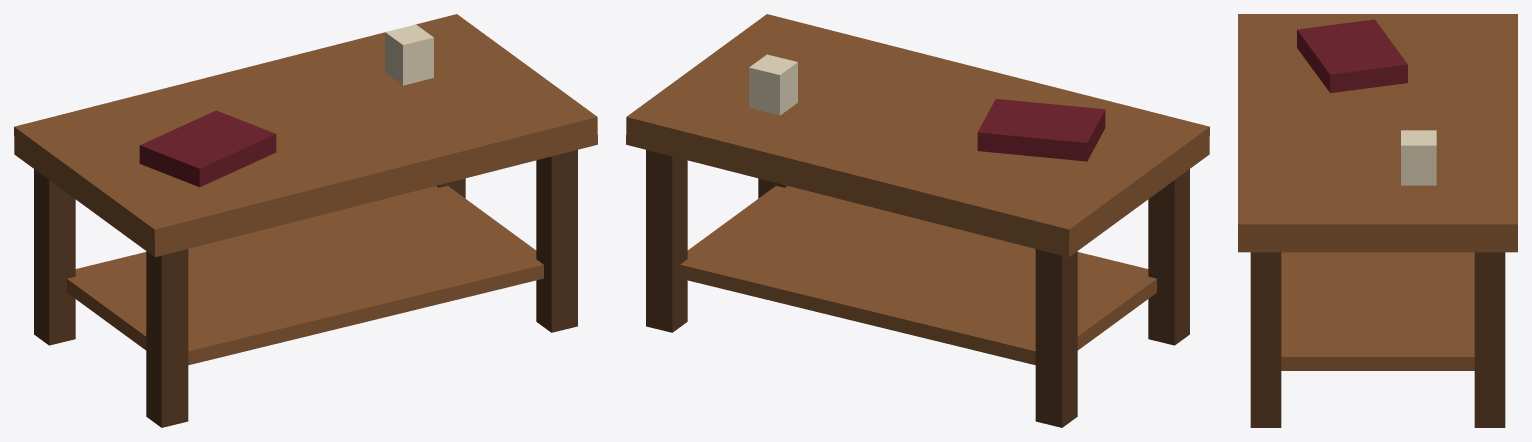
The model's file is Salontafel.glb.
The picture shows the model from 3 angles, left to right: view 1: azimuth 30°, elevation 25°; view 2: azimuth 150°, elevation 25°; view 3: azimuth 270°, elevation 25°; orthographic projection.
Parts seen in each view (by area): view 1: Top, Shelf, Legs, Book, Mug; view 2: Top, Shelf, Legs, Book, Mug; view 3: Top, Shelf, Legs, Book, Mug.
Boxes of the visible parts, box(x1,y1,x2,y2) form: Top: box(14, 14, 597, 257); Shelf: box(67, 186, 543, 365); Legs: box(34, 150, 577, 427); Book: box(139, 110, 276, 187); Mug: box(385, 24, 433, 85); Top: box(626, 14, 1209, 257); Shelf: box(680, 186, 1156, 365); Legs: box(646, 150, 1189, 427); Book: box(977, 99, 1105, 161); Mug: box(749, 54, 797, 115); Top: box(1238, 14, 1517, 252); Shelf: box(1281, 252, 1474, 370); Legs: box(1250, 252, 1505, 427); Book: box(1297, 19, 1407, 93); Mug: box(1401, 130, 1436, 185).
Bounding box in the file's own units: 1 × 0.54 × 0.55.
